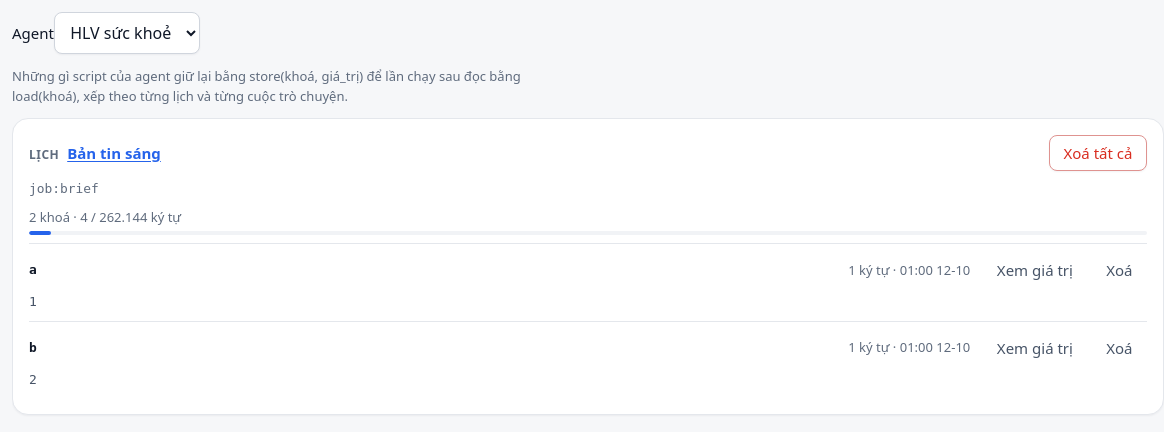
Scenario: a namespace that is gone by the time its delete is pressed › leaves the empty state and the keyboard on the agent's select when it was the last one
The image size is (1164, 432).
Click the button "Xoá tất cả": click(1098, 153) [1049,135,1147,171]
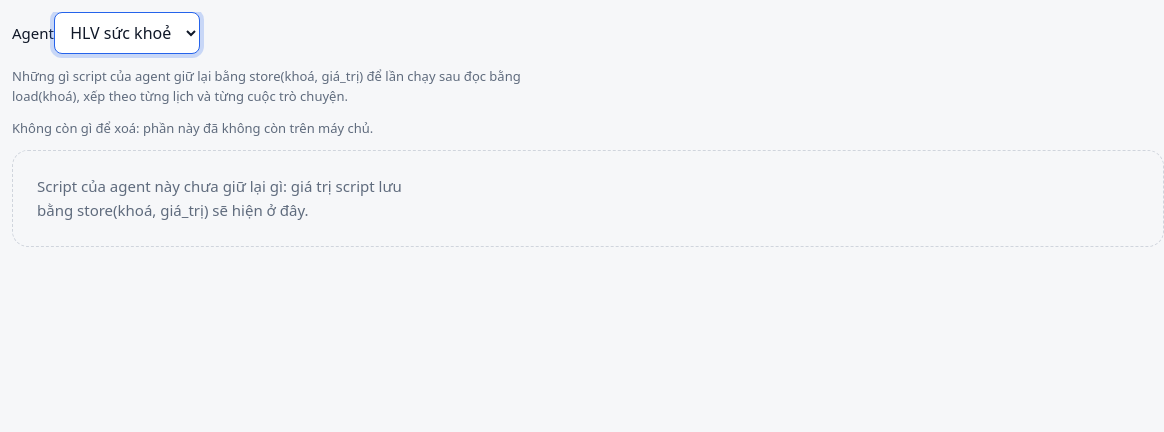
Expected: the message reads "Không còn gì để xoá: phần này đã không còn trên máy chủ.", [12,119,373,137]
